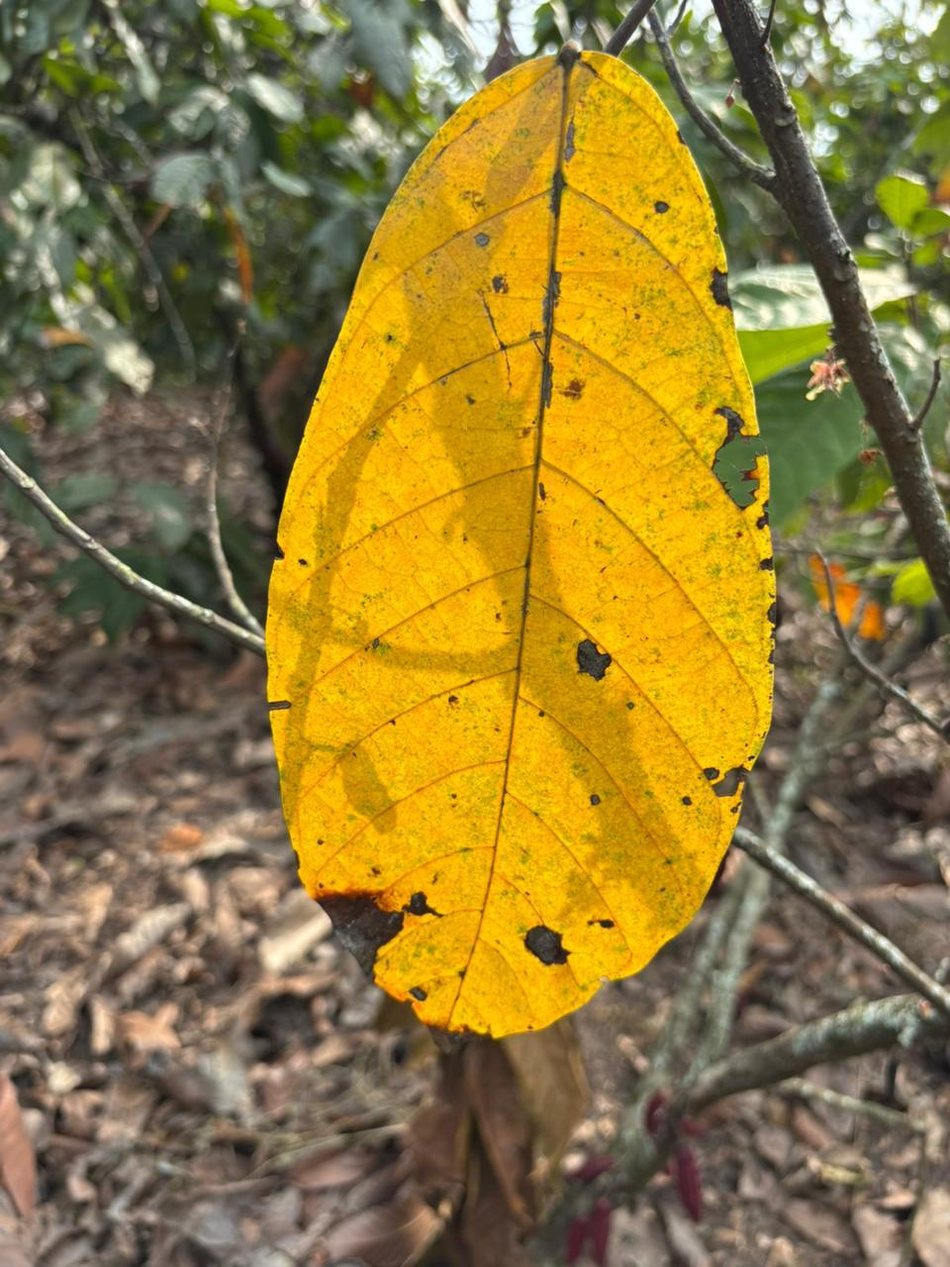Fosforo: (265, 46, 775, 1037)
